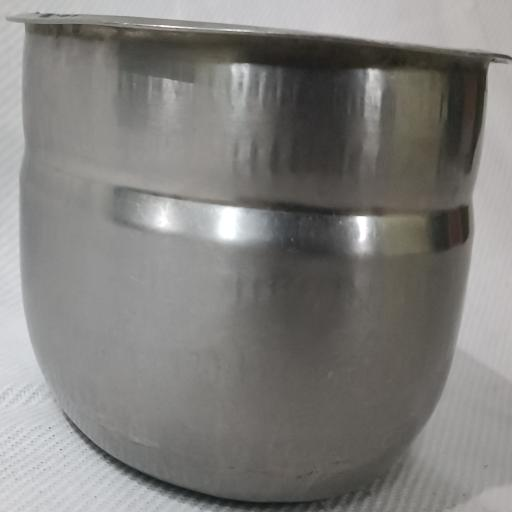vessel: (12, 14, 508, 501)
